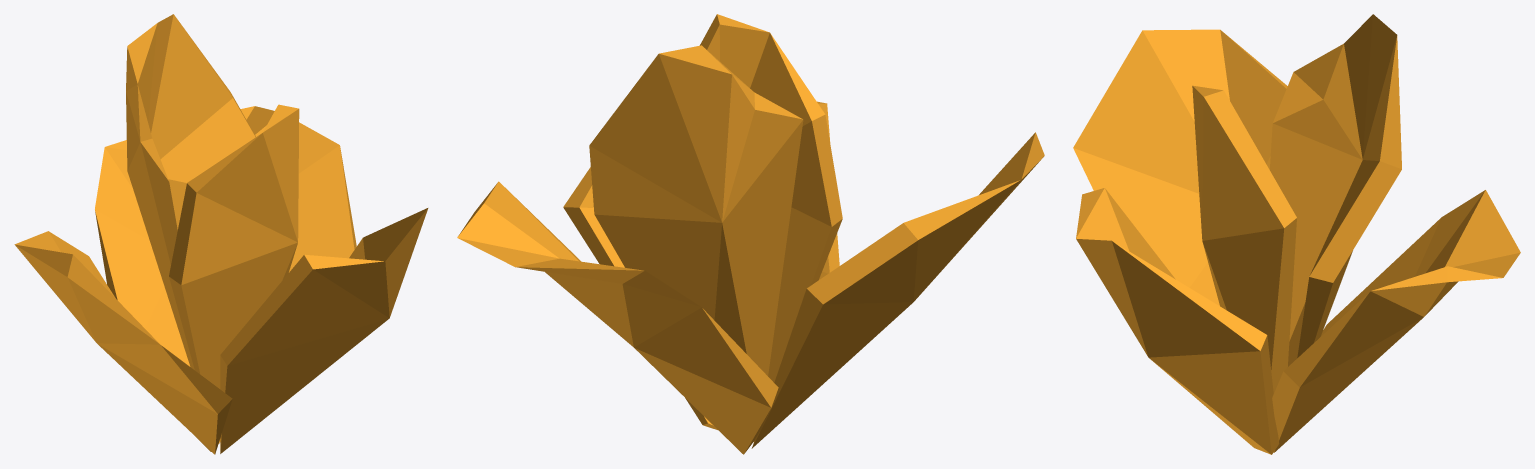
The model's file is SM_Salad_Young_B.fbx.
3 renders of one model, left to right at view 1: azimuth 30°, elevation 25°; view 2: azimuth 150°, elevation 25°; view 3: azimuth 270°, elevation 25°, orthographic. The views are drawn at different scales.
Parts seen in each view (by area): view 1: salad-young-b; view 2: salad-young-b; view 3: salad-young-b.
Boxes of the visible parts, bbox=[...] form: salad-young-b: bbox=[14, 14, 428, 454]; salad-young-b: bbox=[457, 14, 1044, 454]; salad-young-b: bbox=[1073, 14, 1520, 454].
Bounding box in the file's own units: 0.2702 × 0.2607 × 0.2434.
